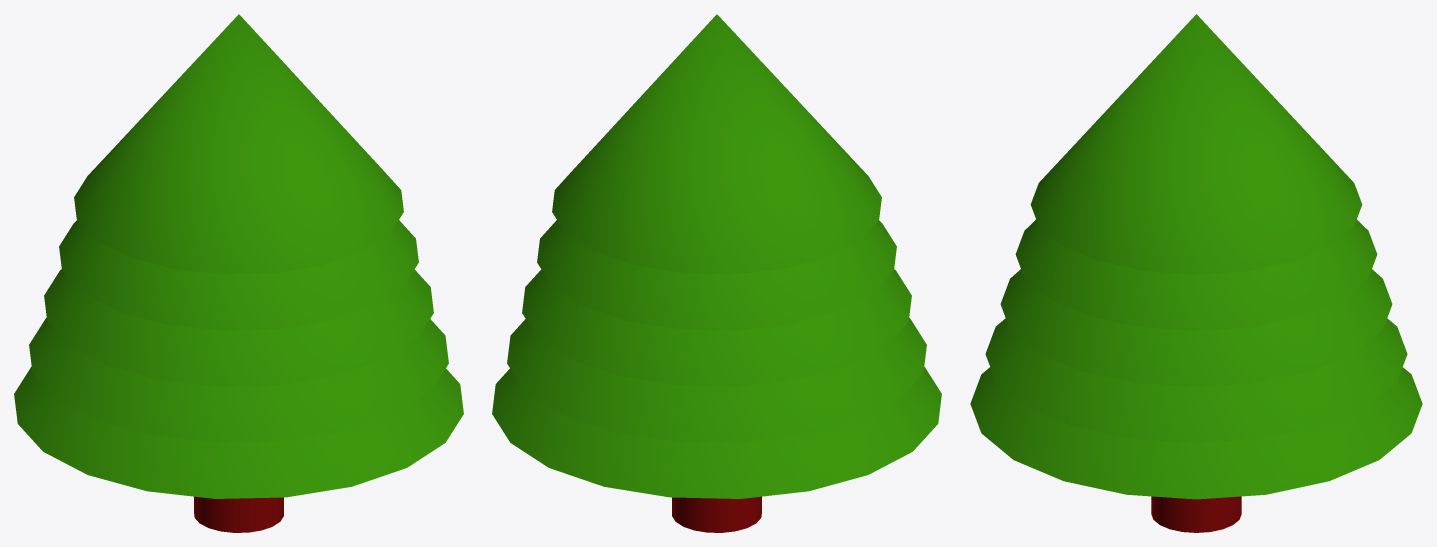
Rendered from tree3.fbx.
3 renders of one model, left to right at view 1: azimuth 30°, elevation 25°; view 2: azimuth 150°, elevation 25°; view 3: azimuth 270°, elevation 25°, orthographic.
Parts seen in each view (by area): view 1: pCone5, pCone1, pCone2, pCone3, pCone4, pCylinder1; view 2: pCone5, pCone1, pCone2, pCone3, pCone4, pCylinder1; view 3: pCone5, pCone1, pCone2, pCone3, pCone4, pCylinder1.
Part boxes in pixels (left/top/right/bottom): pCone5: left=74, top=14, right=403, bottom=274; pCone1: left=14, top=366, right=463, bottom=498; pCone2: left=29, top=318, right=448, bottom=442; pCone3: left=44, top=269, right=433, bottom=386; pCone4: left=59, top=220, right=418, bottom=330; pCylinder1: left=194, top=496, right=283, bottom=532; pCone5: left=552, top=14, right=881, bottom=274; pCone1: left=492, top=366, right=941, bottom=498; pCone2: left=507, top=318, right=926, bottom=442; pCone3: left=522, top=269, right=911, bottom=386; pCone4: left=537, top=220, right=896, bottom=330; pCylinder1: left=672, top=496, right=761, bottom=532; pCone5: left=1030, top=14, right=1362, bottom=274; pCone1: left=970, top=367, right=1422, bottom=499; pCone2: left=985, top=318, right=1407, bottom=443; pCone3: left=1000, top=269, right=1392, bottom=386; pCone4: left=1015, top=219, right=1377, bottom=330; pCylinder1: left=1151, top=496, right=1241, bottom=532.
Bounding box in the file's own units: 8.23 × 10.03 × 8.23.
